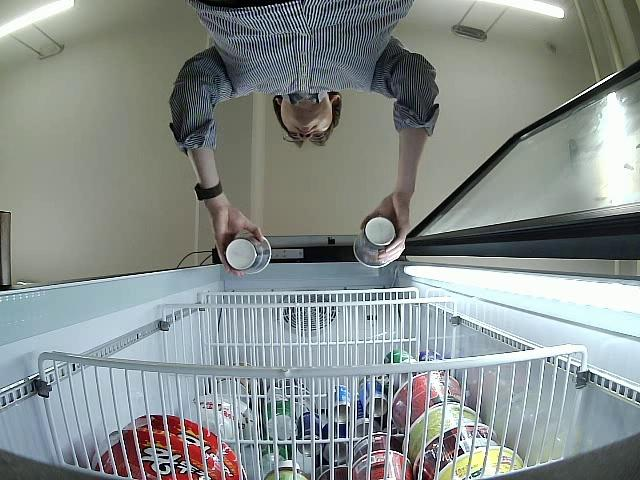00_hand: (359, 190, 412, 267), (213, 211, 266, 279)
08_buldak_S: (353, 216, 399, 269), (223, 234, 270, 274)
